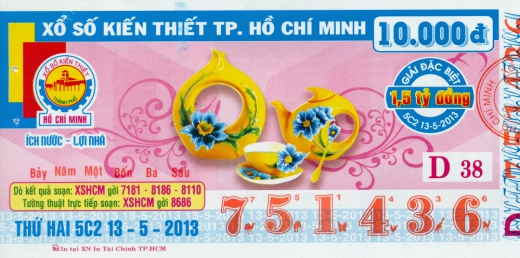serial_zone: (212, 188, 500, 243)
